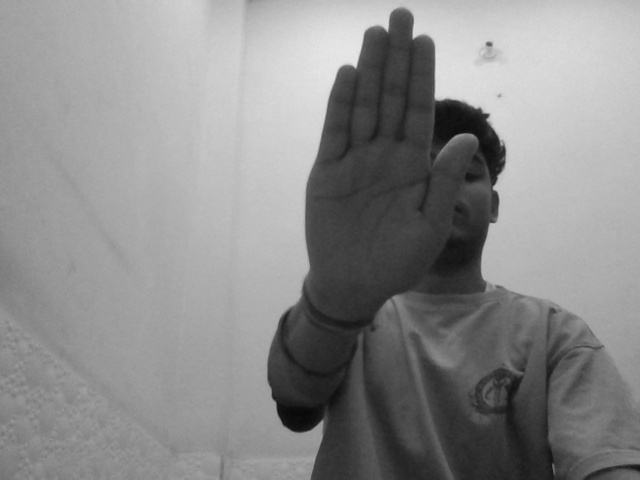Stop: (301, 8, 486, 298)
